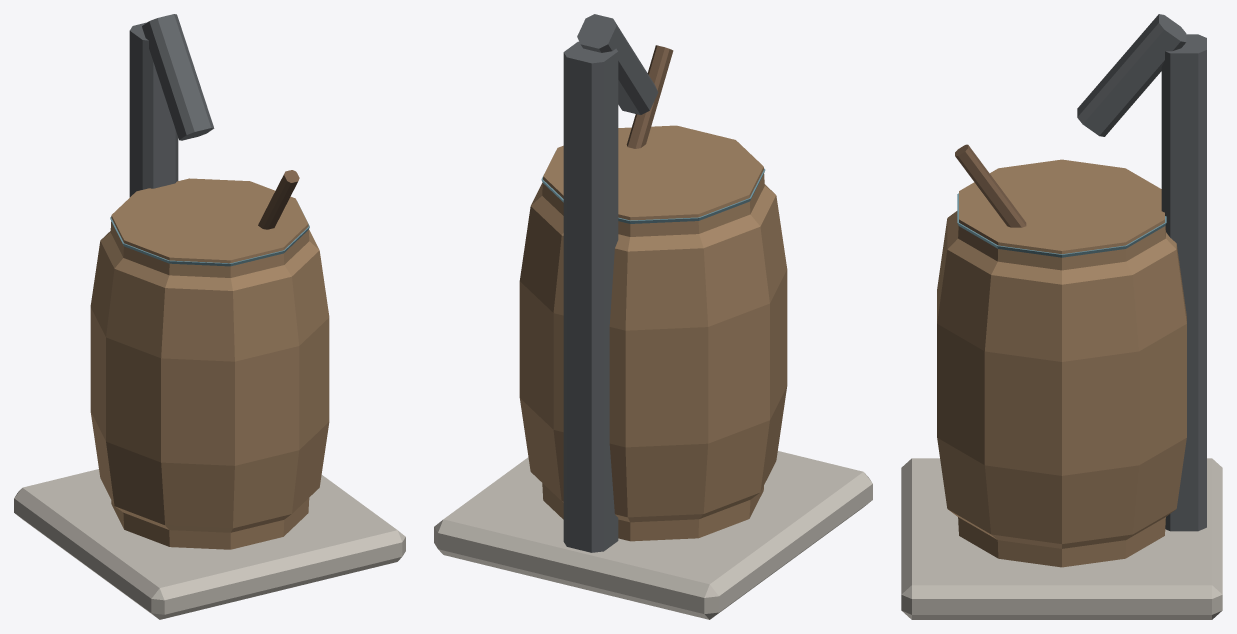
File: water_butt.glb
The picture shows the model from 3 angles, left to right: view 1: azimuth 30°, elevation 25°; view 2: azimuth 150°, elevation 25°; view 3: azimuth 270°, elevation 25°; orthographic projection. The views are drawn at different scales.
Visible parts, largest first — view 1: water_butt; view 2: water_butt; view 3: water_butt.
Part boxes in pixels (<box>): water_butt: <box>14,14,405,619</box>; water_butt: <box>434,14,872,619</box>; water_butt: <box>901,14,1222,619</box>.
Bounding box in the file's own units: 0.92 × 1.7 × 0.92.
